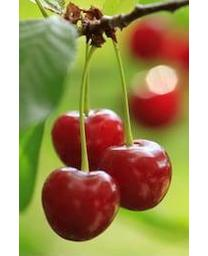cherry: (42, 166, 121, 243), (95, 140, 173, 212), (52, 108, 124, 175)
